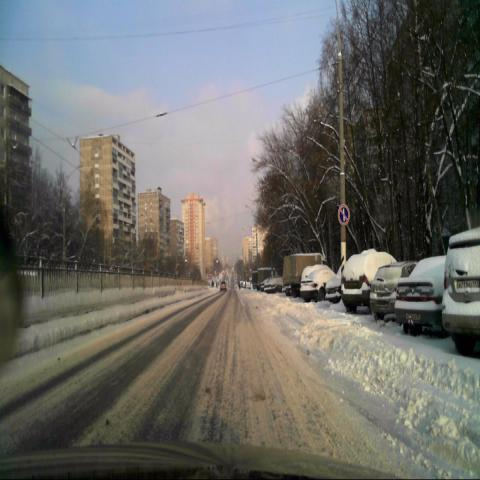3_29: (336, 202, 350, 227)
